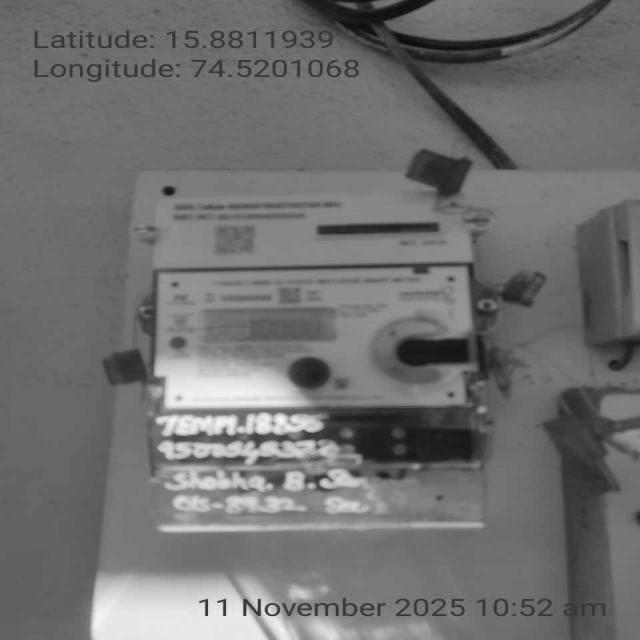meter: (140, 202, 480, 409)
